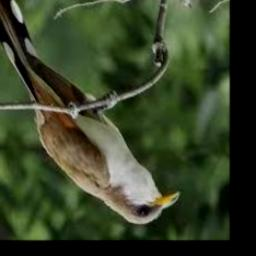Cuckoo: (0, 0, 178, 224)
